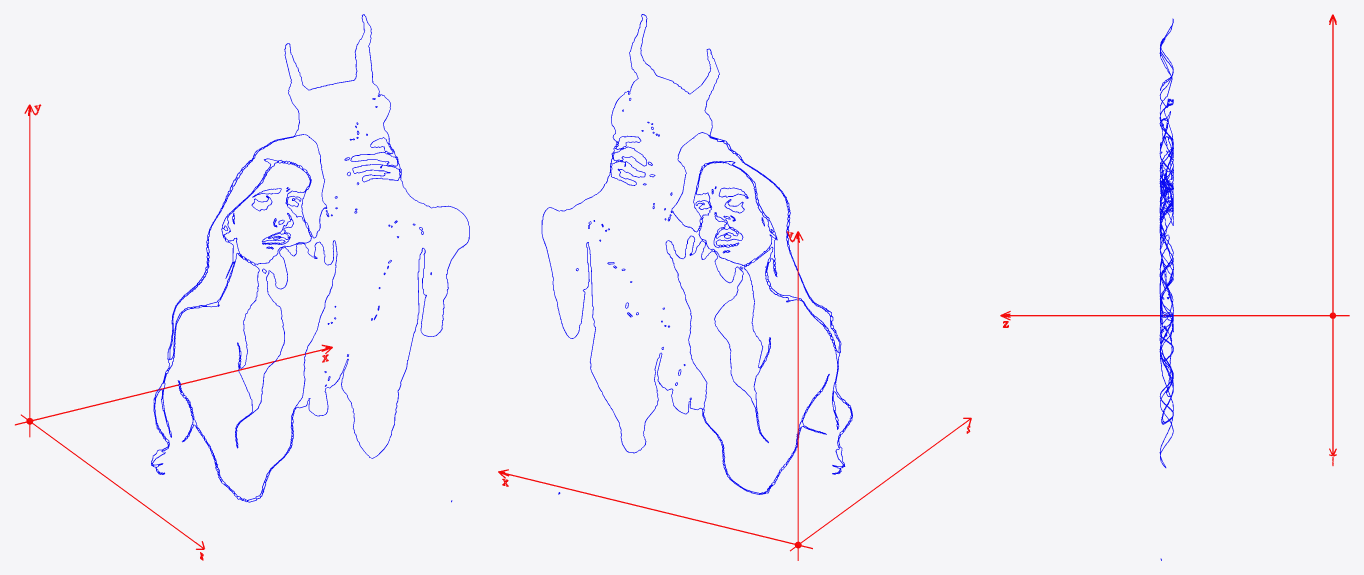
The picture shows the model from 3 angles, left to right: view 1: azimuth 30°, elevation 25°; view 2: azimuth 150°, elevation 25°; view 3: azimuth 270°, elevation 25°; orthographic projection. The views are drawn at different scales.
Size of the model in its own units: 1.2 by 1.6 by 1.05.
